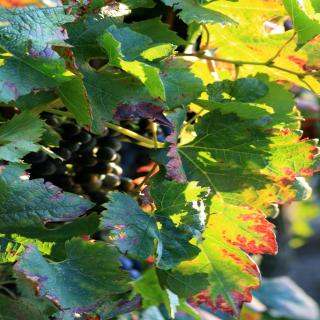Grape: (25, 108, 146, 212), (18, 109, 132, 209)
